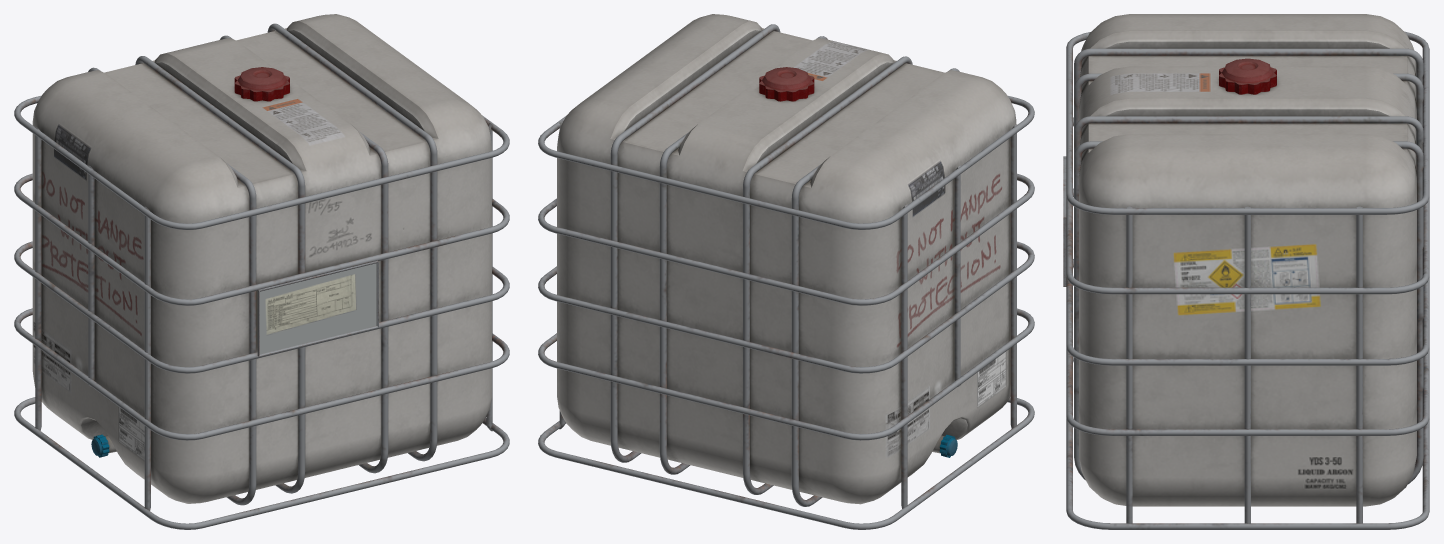
3 views of the same model, side by side, from view 1: azimuth 30°, elevation 25°; view 2: azimuth 150°, elevation 25°; view 3: azimuth 270°, elevation 25° (orthographic). The views are drawn at different scales.
Parts seen in each view (by area): view 1: Container_Low; view 2: Container_Low; view 3: Container_Low.
Boxes of the visible parts, <box> form: Container_Low: <box>14,14,509,529</box>; Container_Low: <box>538,14,1034,529</box>; Container_Low: <box>1063,14,1429,529</box>.
Bounding box in the file's own units: 1.27 × 1.24 × 1.08.
Materials: 1 (1 with a texture image).
